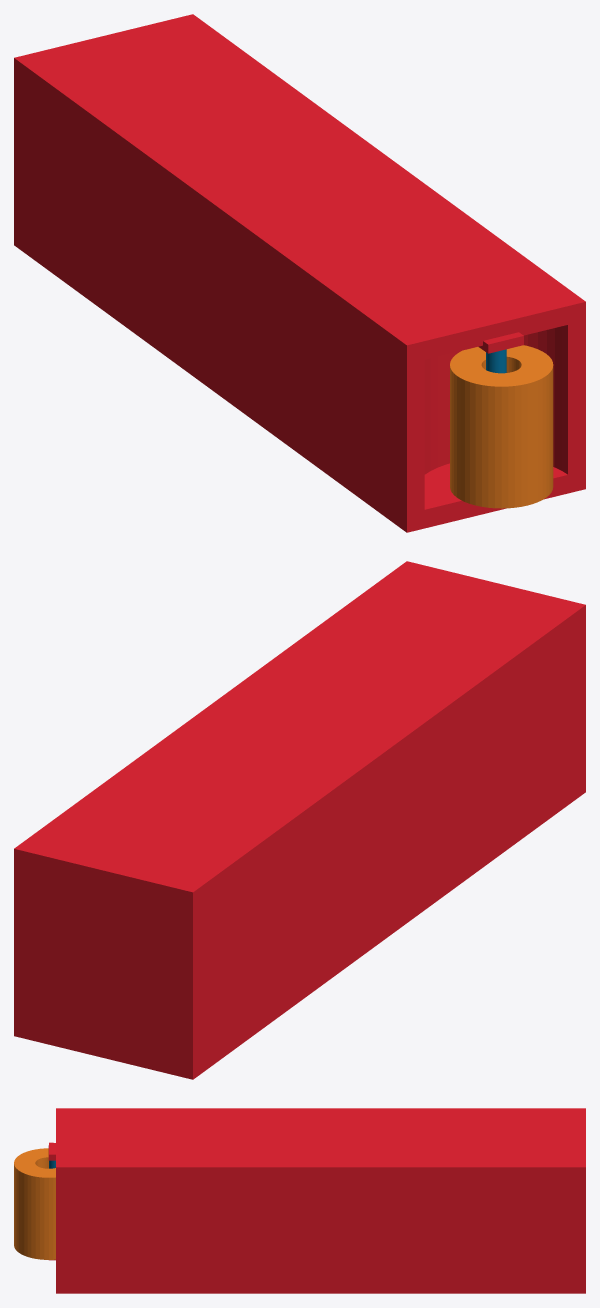
File: nice.glb
3 renders of one model, top to bottom at view 1: azimuth 30°, elevation 25°; view 2: azimuth 150°, elevation 25°; view 3: azimuth 270°, elevation 25°, orthographic. The views are drawn at different scales.
Parts seen in each view (by area): view 1: group_1_15277357, group_2_16089887; view 2: group_1_15277357; view 3: group_1_15277357, group_2_16089887.
Part boxes in pixels (x1,y1,x2,y2): group_1_15277357: (14, 14, 585, 532); group_2_16089887: (450, 345, 553, 508); group_1_15277357: (14, 561, 585, 1079); group_1_15277357: (56, 1108, 585, 1293); group_2_16089887: (14, 1148, 55, 1259).
Size of the model in its own units: 10 by 10 by 41.
